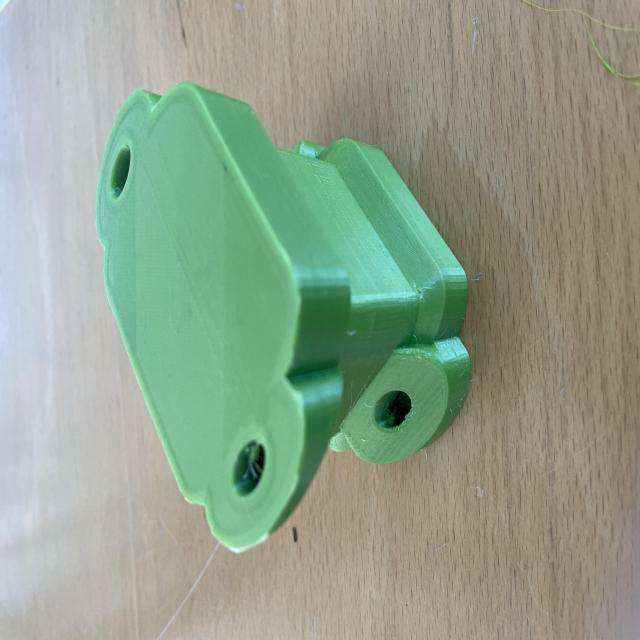Stringing: (218, 434, 276, 495), (375, 390, 413, 432)
